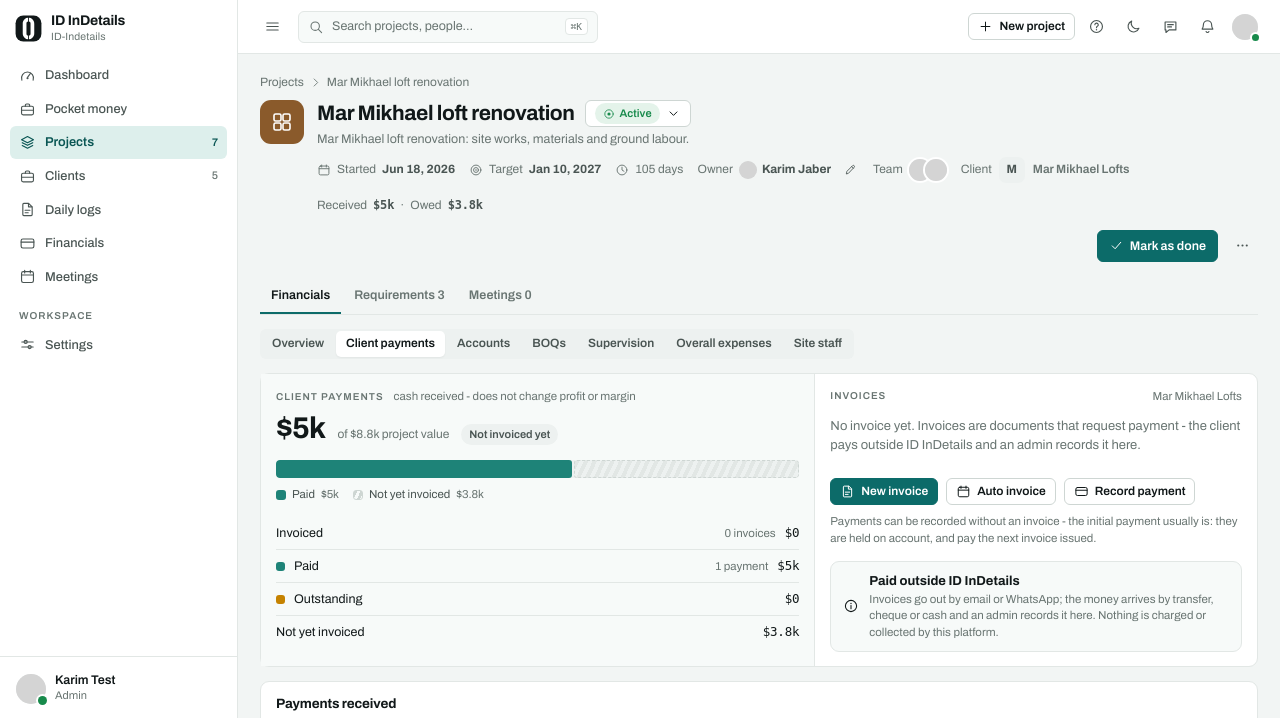
Test: recording a payment under an account label › files an Execution site's payment under a label too, and sends none when none is chosen
Click the button "Record payment" at (1130, 492), box [1064,478,1196,505]
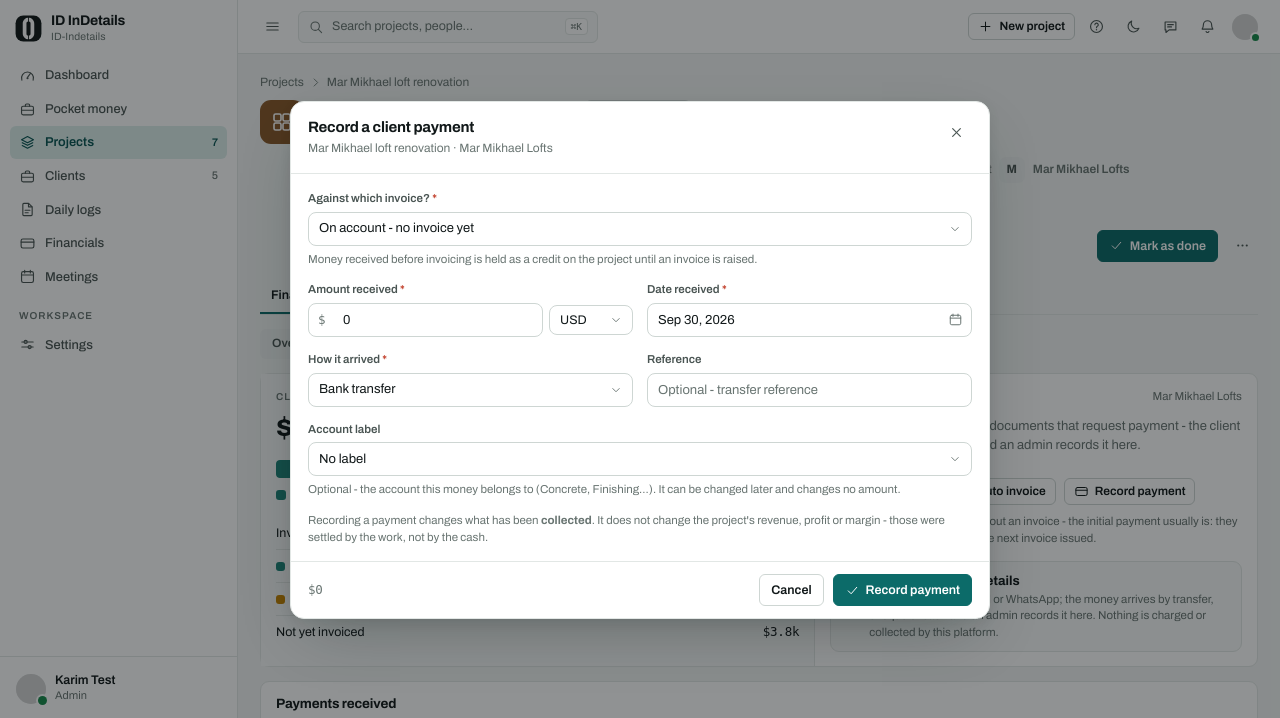
Expected: the text "On account - no invoice yet" is shown, [319,221,474,235]
Type "2500" into the field labelled "Amount received" at (426, 320), box [308,303,543,337]
Click the button named "Account label" at (343, 459), box [308,442,972,476]
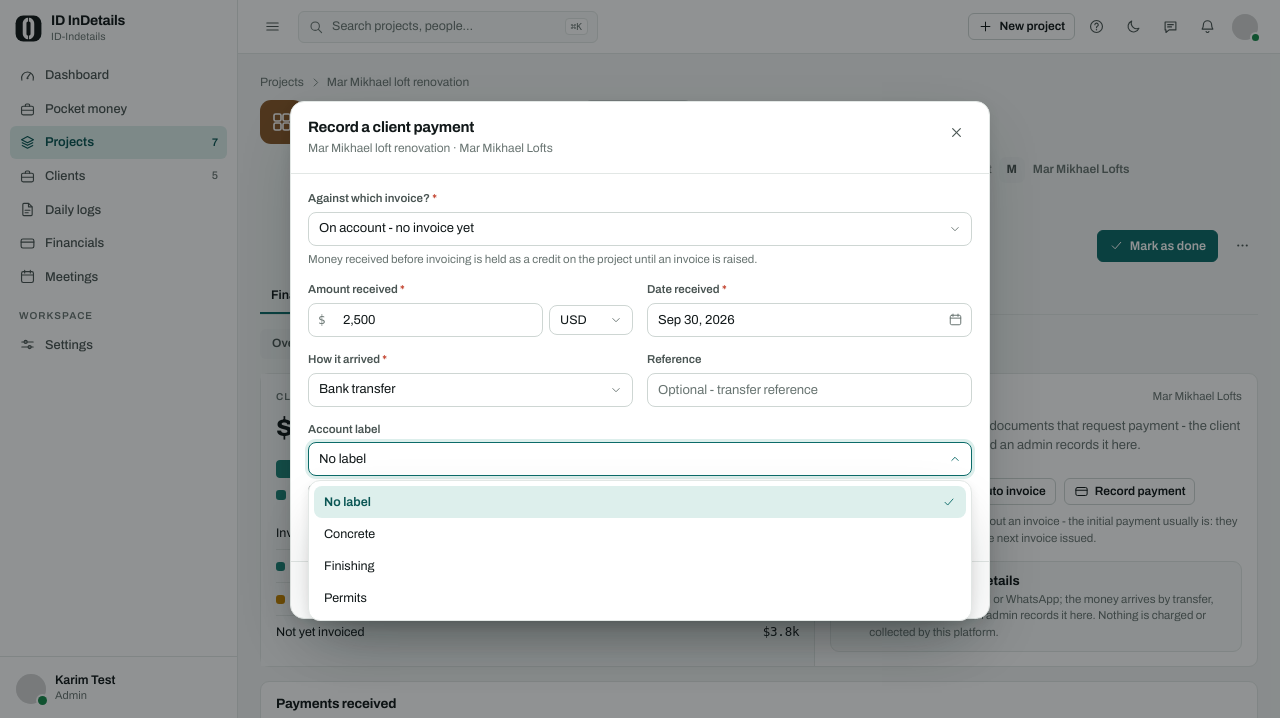
Click the option "Finishing" at (349, 566), box [324,559,374,573]
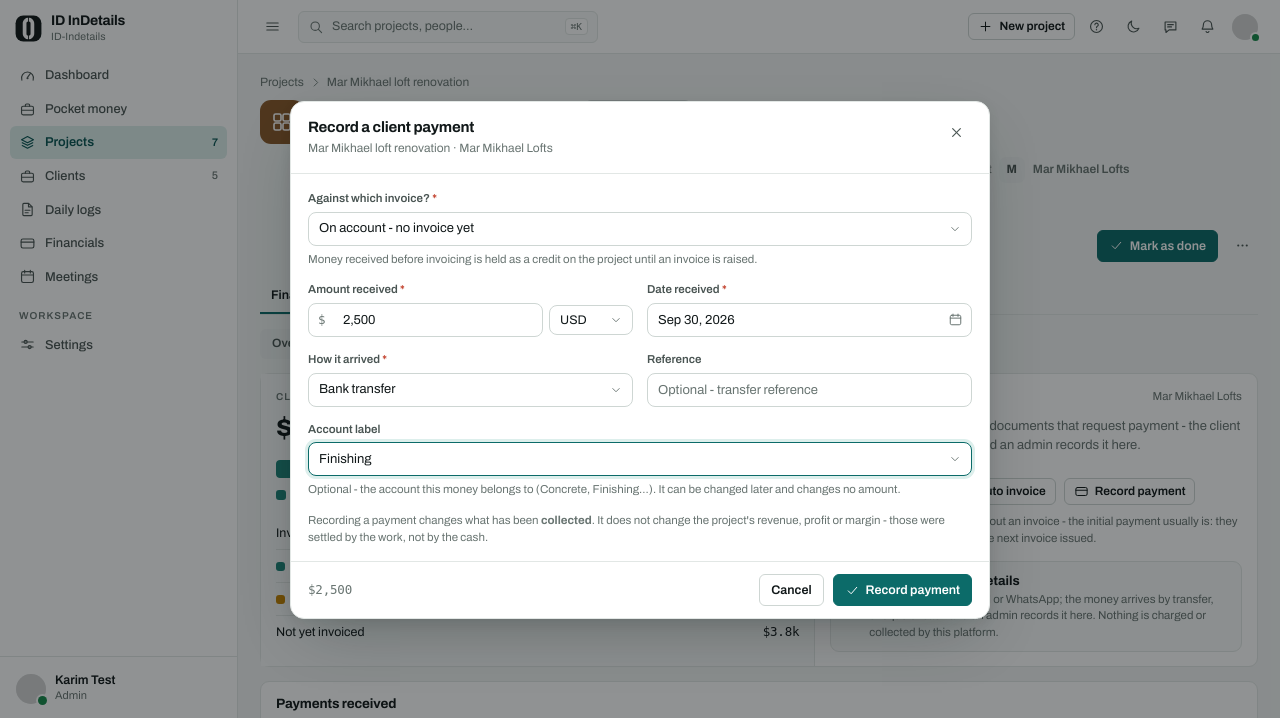
Click the button "Record payment" at (902, 590), box [833,574,972,606]
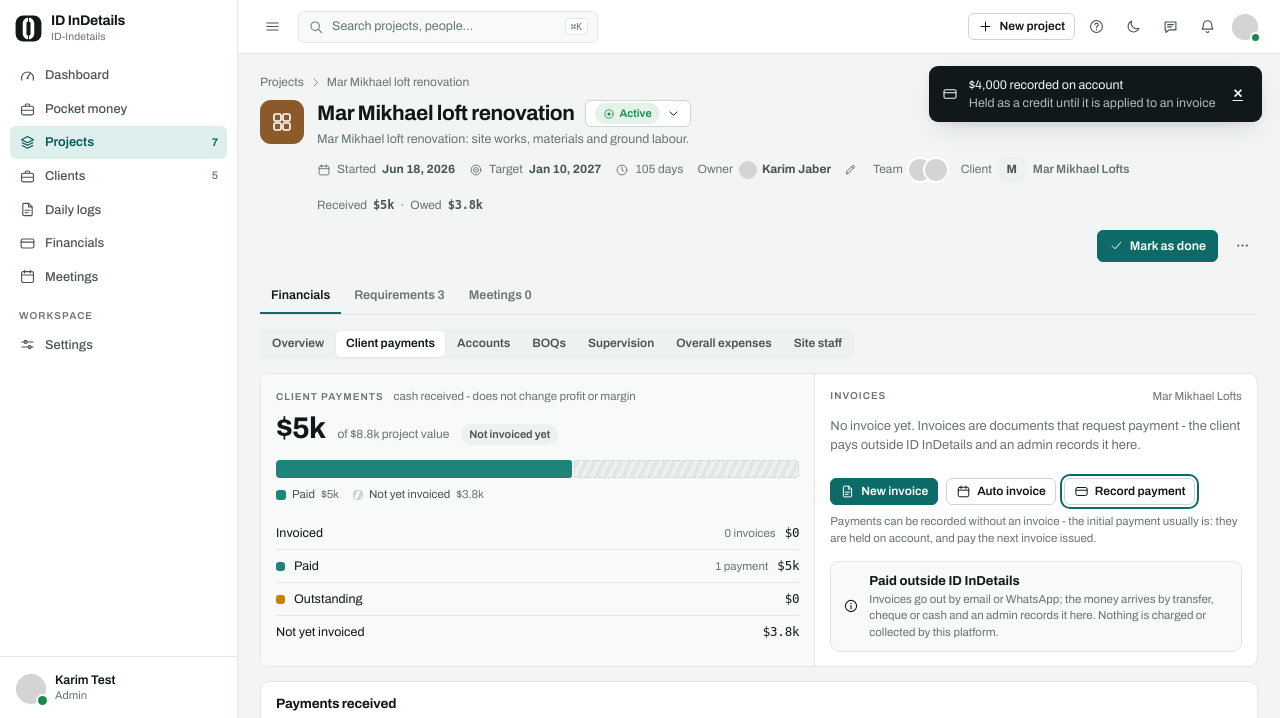
Expected: the text "Record a client payment" is gone
Click the button "Record payment" at (1130, 492), box [1064,478,1196,505]
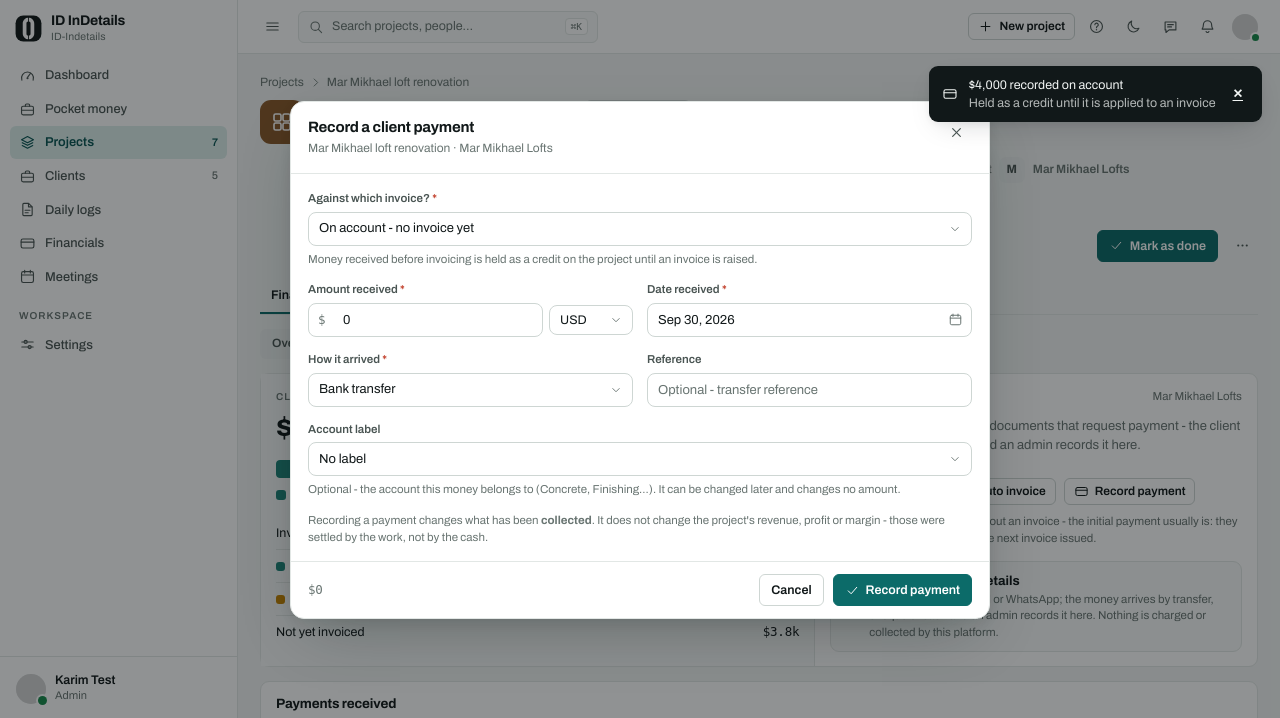
Expected: the text "On account - no invoice yet" is shown, [319,221,474,235]
Type "2500" into the field labelled "Amount received" at (426, 320), box [308,303,543,337]
Click the button "Record payment" at (902, 590), box [833,574,972,606]
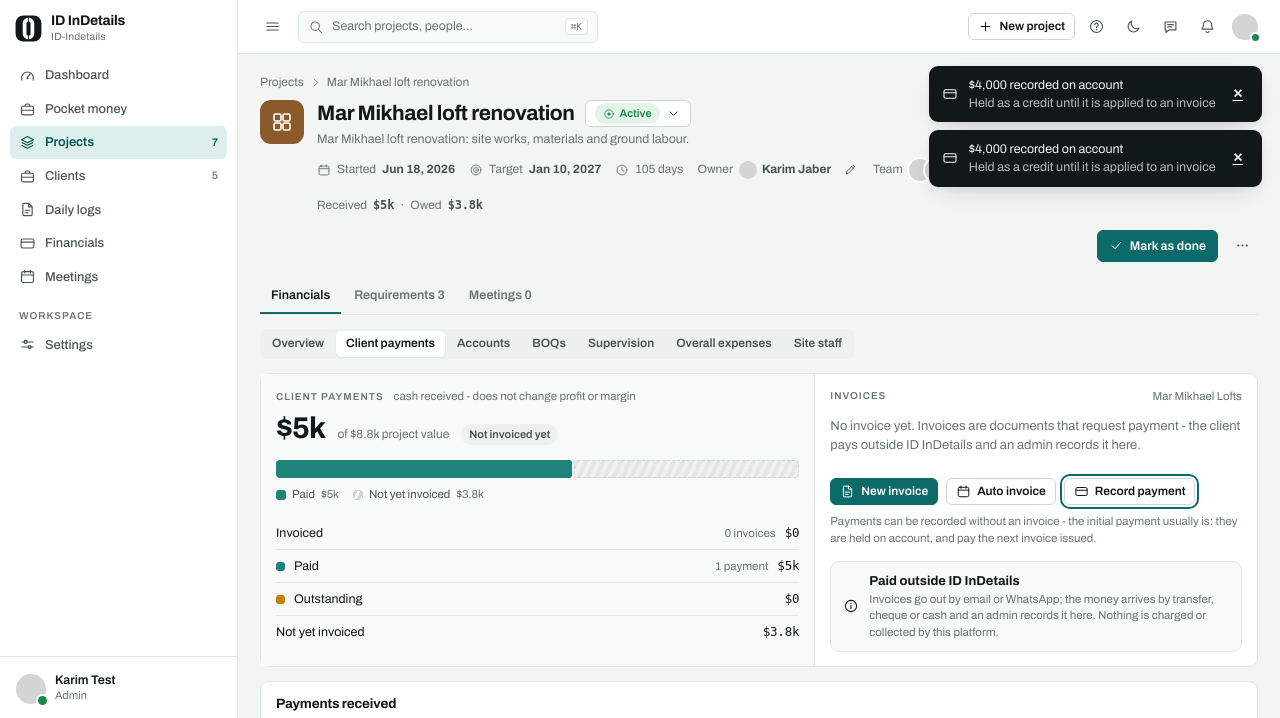
Expected: the text "Record a client payment" is gone
